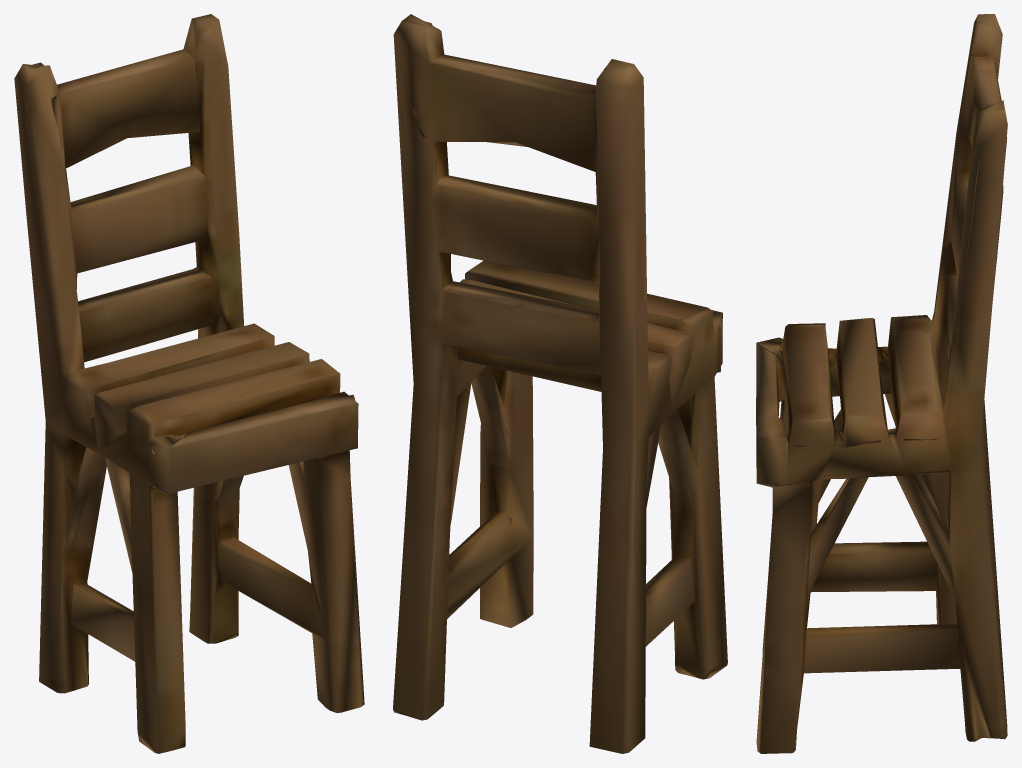
The model's file is chair.glb.
3 views of the same model, side by side, from view 1: azimuth 30°, elevation 25°; view 2: azimuth 150°, elevation 25°; view 3: azimuth 270°, elevation 25° (orthographic). The views are drawn at different scales.
Bounding box in the file's own units: 0.4025 × 1 × 0.3648.
Materials: 1 (1 with a texture image).
